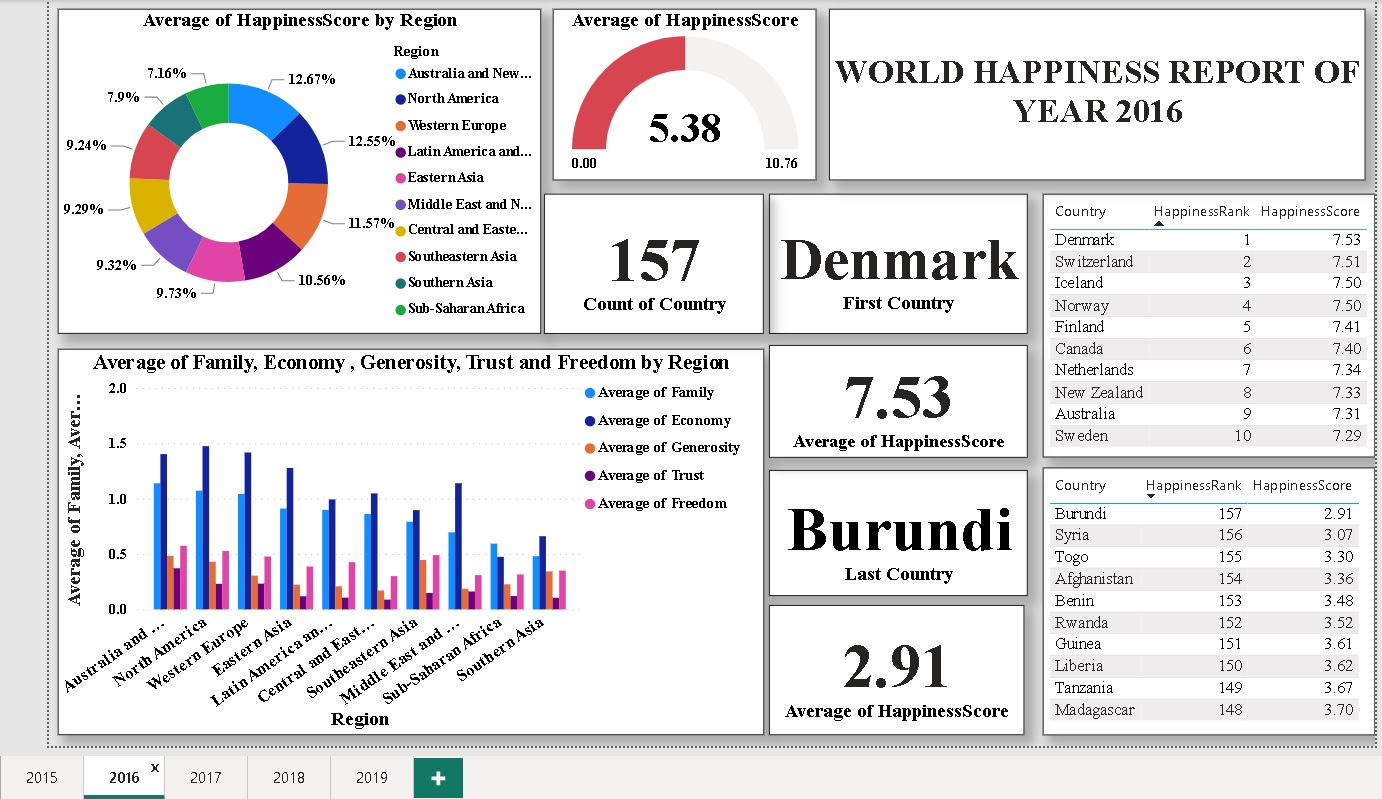

What the dashboard file says about the page in this screenshot:
{"tool":"powerbi","page":{"name":"2016","canvas":[1280,720],"ordinal":1},"visuals":[{"type":"donutChart","fields":{"Category":["processedhwr2016.Region"],"Y":["Avg(processedhwr2016.HappinessScore)"]},"box":[8.4,8.4,466.7,313.6],"z":0},{"type":"clusteredColumnChart","title":"Average of Family,  Economy , Generosity, Trust  and Freedom by Region","fields":{"Category":["processedhwr2016.Region"],"Y":["Avg(processedhwr2016.Family)","Avg(processedhwr2016.Economy )","Avg(processedhwr2016.Generosity)","Avg(processedhwr2016.Trust )","Avg(processedhwr2016.Freedom)"]},"box":[8.4,336.5,681.4,372.7],"z":1000},{"type":"gauge","fields":{"Y":["Avg(processedhwr2016.HappinessScore)"]},"box":[486,8.4,254.5,165.2],"z":2000},{"type":"card","fields":{"Values":["Min(processedhwr2016.Country)"]},"box":[694.7,186.9,249.6,135.1],"z":3000},{"type":"card","fields":{"Values":["Count(processedhwr2016.Country)"]},"box":[477.6,186.9,212.3,135.1],"z":4000},{"type":"card","fields":{"Values":["Max(processedhwr2016.Country)"]},"box":[694.7,453.5,249.6,121.8],"z":5000},{"type":"tableEx","fields":{"Values":["processedhwr2016.Country","processedhwr2016.HappinessRank","processedhwr2016.HappinessScore"]},"box":[958.8,186.9,320.8,254.5],"z":6000},{"type":"tableEx","fields":{"Values":["processedhwr2016.Country","processedhwr2016.HappinessRank","processedhwr2016.HappinessScore"]},"box":[958.8,451.1,320.8,258.1],"z":7000},{"type":"card","fields":{"Values":["Avg(processedhwr2016.HappinessScore)"]},"box":[694.7,332.9,249.6,108.5],"z":8000},{"type":"card","fields":{"Values":["Avg(processedhwr2016.HappinessScore)"]},"box":[694.7,583.7,246,125.4],"z":9000},{"type":"textbox","box":[752.6,8.4,517.4,165.2],"z":10000}]}

Visuals, with their boxes in screenshot pixels (x1, y1, x2, y2):
donutChart - processedhwr2016.Region x Avg(processedhwr2016.HappinessScore): <box>63,12,542,334</box>
"Average of Family,  Economy , Generosity, Trust  and Freedom by Region" clusteredColumnChart: <box>63,349,762,732</box>
gauge - Avg(processedhwr2016.HappinessScore): <box>553,12,814,182</box>
card - Min(processedhwr2016.Country): <box>767,196,1024,334</box>
card - Count(processedhwr2016.Country): <box>544,196,763,334</box>
card - Max(processedhwr2016.Country): <box>767,469,1024,594</box>
tableEx - processedhwr2016.Country x processedhwr2016.HappinessRank: <box>1039,196,1368,457</box>
tableEx - processedhwr2016.Country x processedhwr2016.HappinessRank: <box>1039,467,1368,732</box>
card - Avg(processedhwr2016.HappinessScore): <box>767,345,1024,457</box>
card - Avg(processedhwr2016.HappinessScore): <box>767,603,1020,732</box>
textbox: <box>827,12,1358,182</box>
